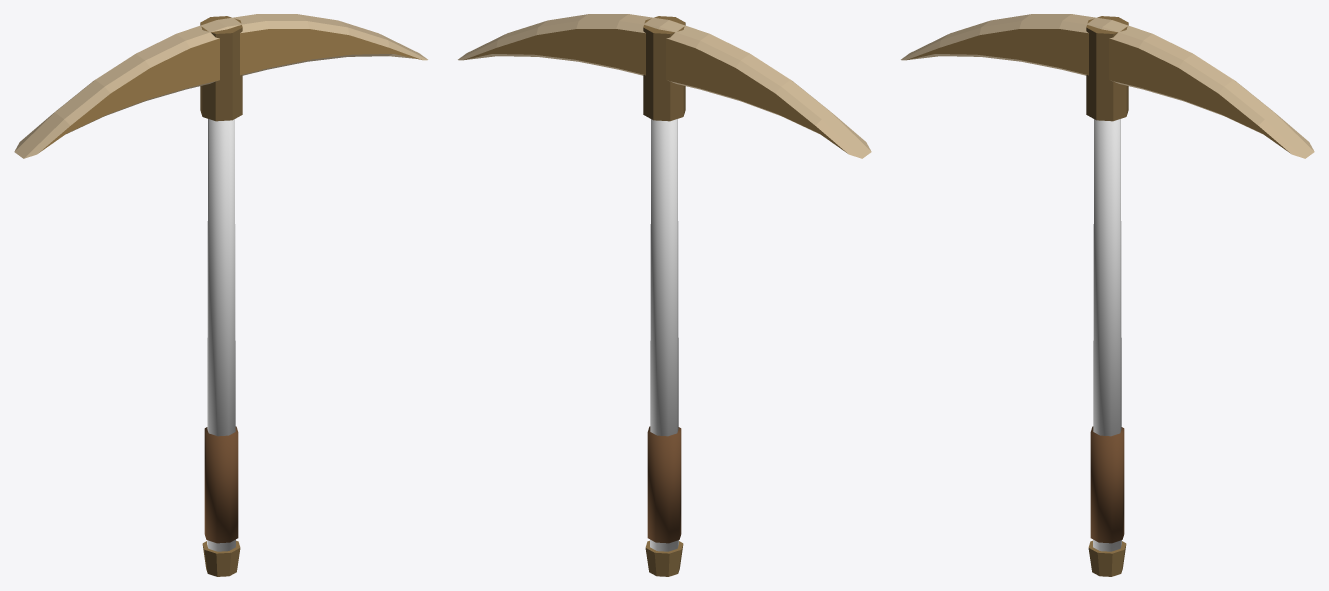
File: picksaw.glb
The picture shows the model from 3 angles, left to right: view 1: azimuth 30°, elevation 25°; view 2: azimuth 150°, elevation 25°; view 3: azimuth 330°, elevation 25°; orthographic projection.
Visible parts, largest first — view 1: picksaw_v0; view 2: picksaw_v0; view 3: picksaw_v0.
Part boxes in pixels (left/top/right/bottom): picksaw_v0: left=14, top=14, right=427, bottom=576; picksaw_v0: left=458, top=14, right=871, bottom=576; picksaw_v0: left=901, top=14, right=1314, bottom=576.
Size of the model in its own units: 0.68 by 0.8775 by 0.064.
